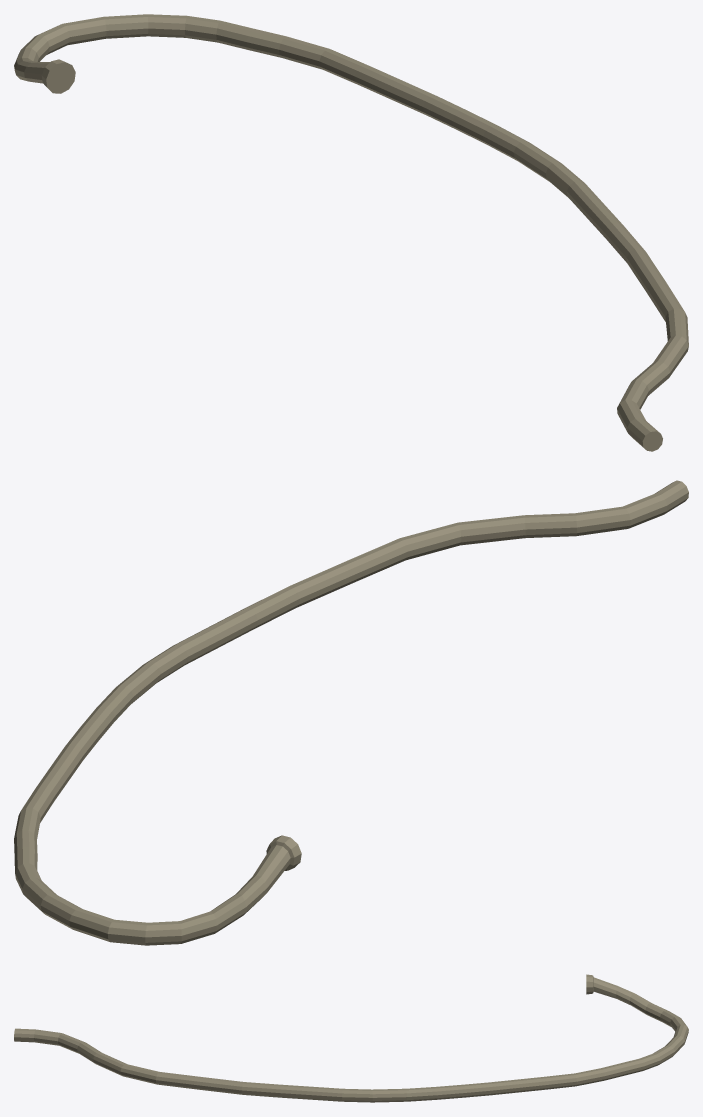
File: GameAsset_Wire_v01.fbx
3 views of the same model, one above another, from view 1: azimuth 30°, elevation 25°; view 2: azimuth 150°, elevation 25°; view 3: azimuth 270°, elevation 25° (orthographic). The views are drawn at different scales.
Parts seen in each view (by area): view 1: wire; view 2: wire; view 3: wire.
Boxes of the visible parts, bbox=[...] form: wire: bbox=[14, 14, 688, 451]; wire: bbox=[14, 480, 688, 945]; wire: bbox=[14, 974, 688, 1102].
Bounding box in the file's own units: 36.61 × 6.49 × 108.
